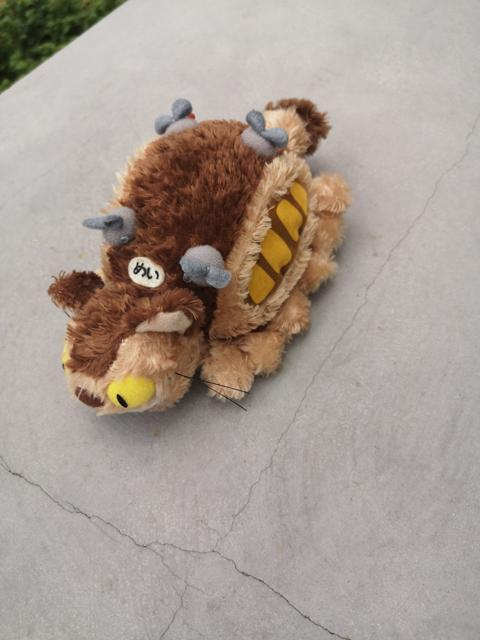nekobus: (47, 84, 355, 423)
